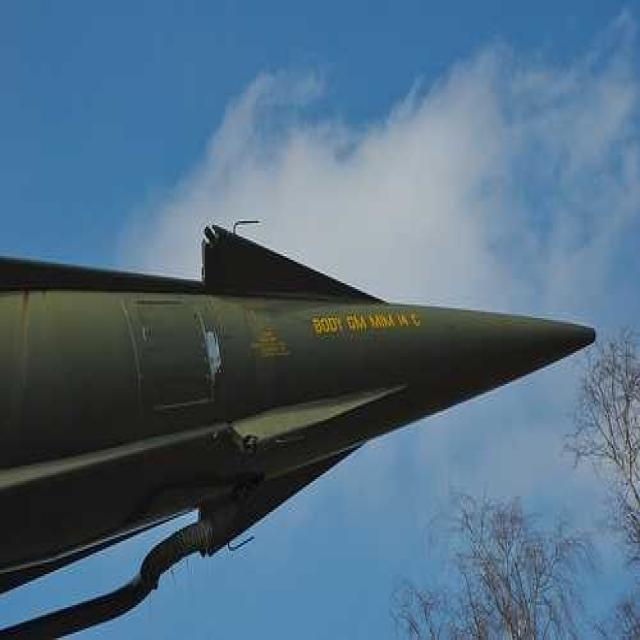missile: (3, 223, 596, 596)
